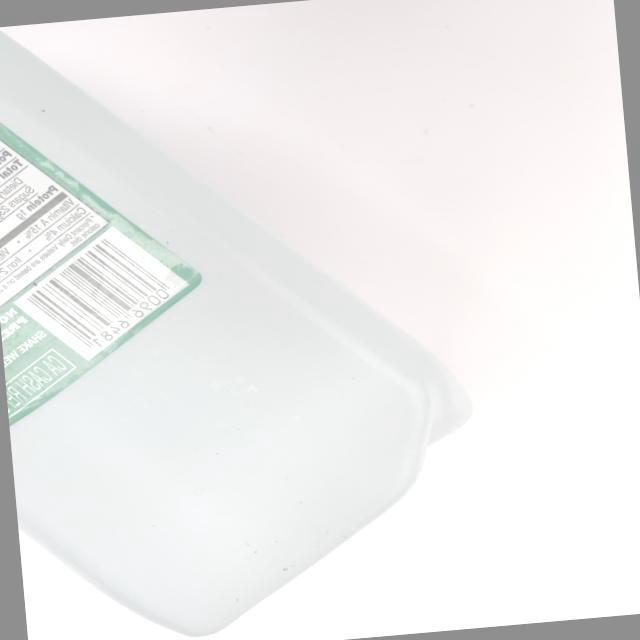plastic: (0, 0, 536, 640)
